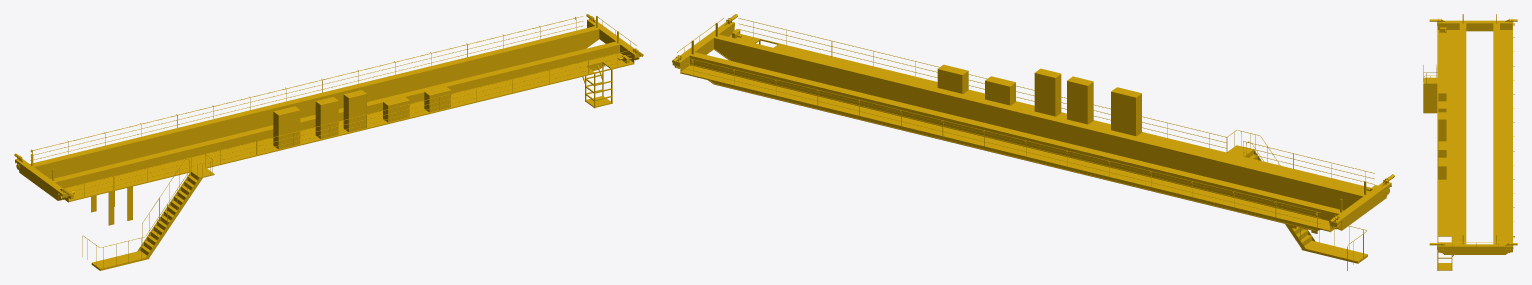
Rendered from big.fbx.
3 views of the same model, side by side, from view 1: azimuth 30°, elevation 25°; view 2: azimuth 150°, elevation 25°; view 3: azimuth 270°, elevation 25° (orthographic). The views are drawn at different scales.
Visible parts, largest first — view 1: 桥架-1-solid2; view 2: 桥架-1-solid2; view 3: 桥架-1-solid2.
Boxes of the visible parts, x1=… form: 桥架-1-solid2: x1=14, y1=14, x2=643, y2=270; 桥架-1-solid2: x1=672, y1=14, x2=1394, y2=270; 桥架-1-solid2: x1=1423, y1=14, x2=1517, y2=270.
Bounding box in the file's own units: 125 × 21.38 × 22.05.
